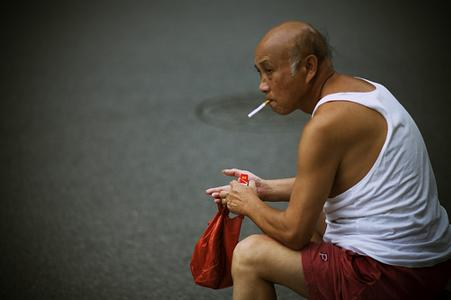person: (205, 20, 450, 300)
